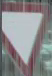Give way: (1, 2, 45, 72)
